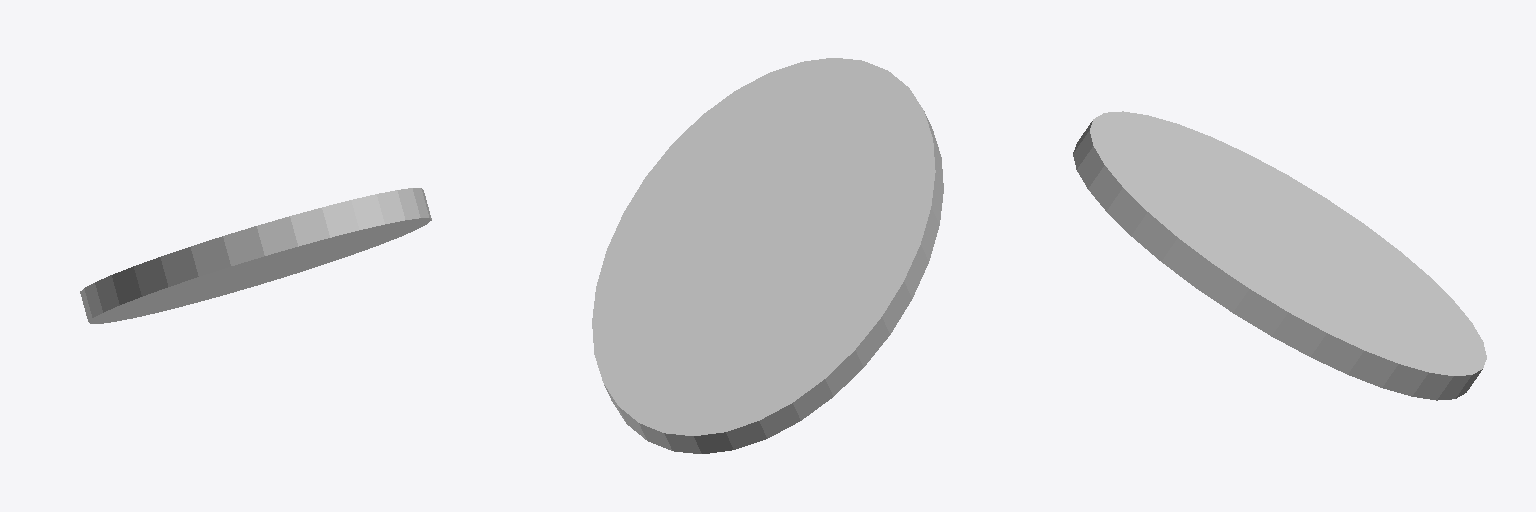
File: prawe_skrzydlo.obj
3 views of the same model, side by side, from view 1: azimuth 30°, elevation 25°; view 2: azimuth 150°, elevation 25°; view 3: azimuth 270°, elevation 25° (orthographic).
Parts seen in each view (by area): view 1: Walec.002; view 2: Walec.002; view 3: Walec.002.
Part boxes in pixels (bbox=[...]): Walec.002: bbox=[80, 188, 431, 323]; Walec.002: bbox=[592, 58, 943, 453]; Walec.002: bbox=[1073, 111, 1486, 400].
Size of the model in its own units: 2.34 by 2.01 by 3.